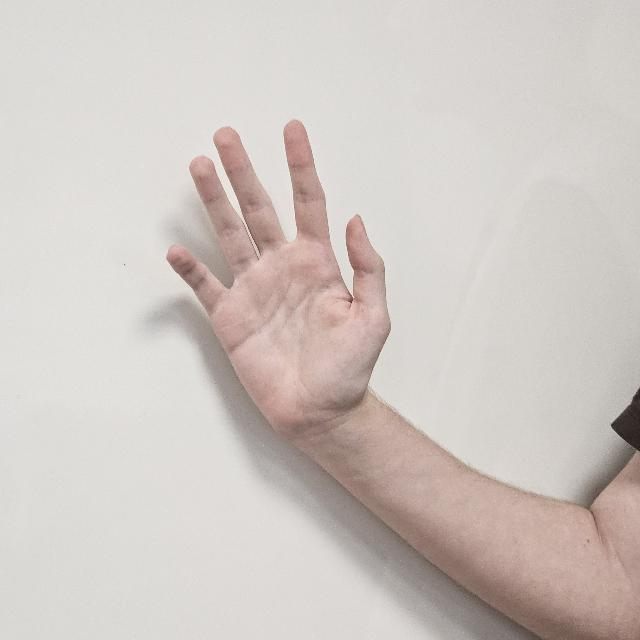X: (167, 118, 391, 446)
